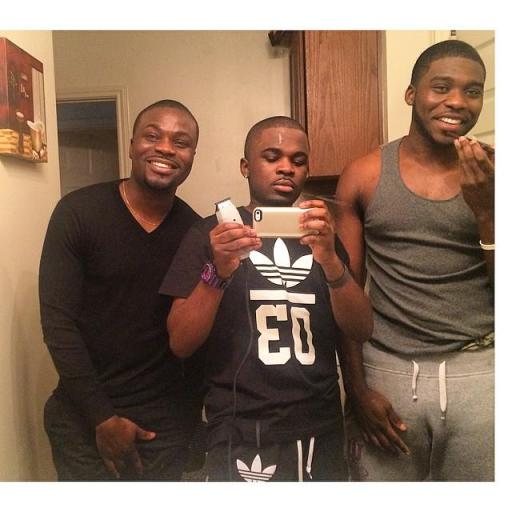Adidas: (246, 234, 316, 294)
